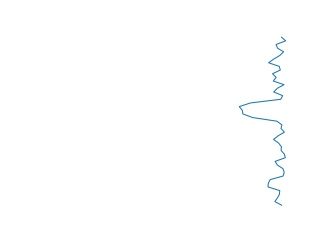interdistributaryEstuary: (237, 32, 289, 206)
